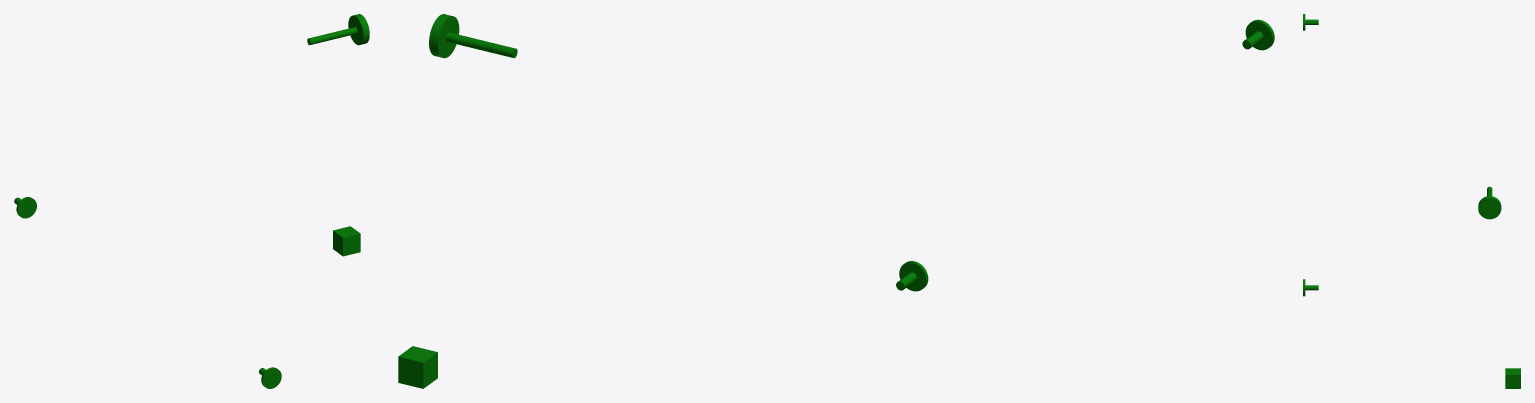
The model's file is Image-1710907555117-2281443734160_42-PF50.fbx.
3 views of the same model, side by side, from view 1: azimuth 30°, elevation 25°; view 2: azimuth 150°, elevation 25°; view 3: azimuth 270°, elevation 25° (orthographic). The views are drawn at different scales.
Parts seen in each view (by area): view 1: /42-PF50A/TP2, BOX 1 of SUBEQUIPMENT /SI-2101, /42-PF50A/TP3, /42-PF50A/TP24; view 2: /42-PF50A/TP2, BOX 1 of SUBEQUIPMENT /SI-2101, /42-PF50A/TP3, /42-PF50A/TP24; view 3: /42-PF50A/TP2, BOX 1 of SUBEQUIPMENT /SI-2101.
Boxes of the visible parts, bbox=[...] form: /42-PF50A/TP2: bbox=[307, 14, 369, 45]; BOX 1 of SUBEQUIPMENT /SI-2101: bbox=[333, 226, 360, 256]; /42-PF50A/TP3: bbox=[259, 367, 281, 388]; /42-PF50A/TP24: bbox=[14, 197, 36, 218]; /42-PF50A/TP2: bbox=[429, 14, 517, 58]; BOX 1 of SUBEQUIPMENT /SI-2101: bbox=[398, 346, 437, 388]; /42-PF50A/TP3: bbox=[896, 261, 928, 291]; /42-PF50A/TP24: bbox=[1242, 19, 1274, 50]; /42-PF50A/TP2: bbox=[1478, 186, 1501, 219]; BOX 1 of SUBEQUIPMENT /SI-2101: bbox=[1505, 368, 1520, 388].
Bounding box in the file's own units: 2.68 × 1.4 × 1.43.
